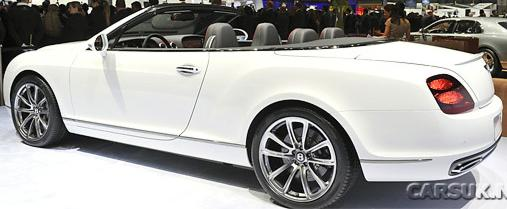back_view: (417, 49, 506, 184)
backlight: (425, 71, 481, 116)
